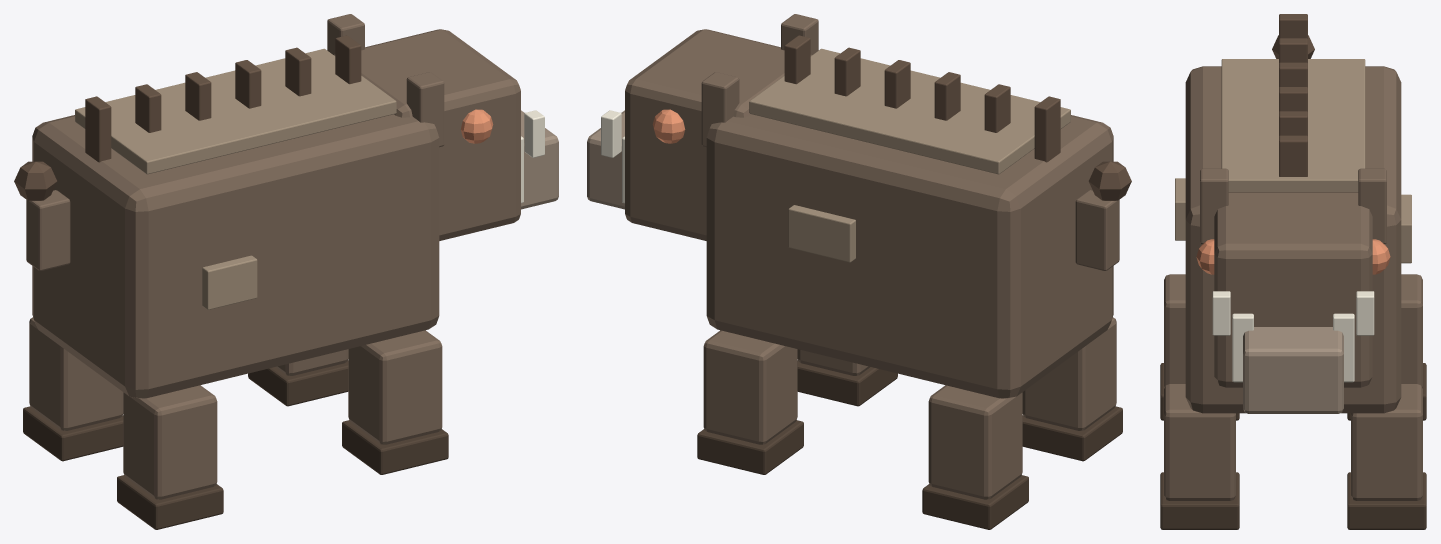
Rendered from burrow_boar_v2.glb.
3 renders of one model, left to right at view 1: azimuth 30°, elevation 25°; view 2: azimuth 150°, elevation 25°; view 3: azimuth 270°, elevation 25°, orthographic.
Visible parts, largest first — view 1: Body_Mesh, Head_Mesh, Dirt_Top, LegBL_Shaft, LegFL_Shaft, LegBR_Shaft, LegBL_Hoof, LegFL_Hoof, Tail_Base, LegBR_Hoof, LegFR_Hoof, Dirt_L (+13 smaller); view 2: Body_Mesh, Head_Mesh, Dirt_Top, LegBR_Shaft, LegFR_Shaft, LegBL_Shaft, LegBR_Hoof, LegFR_Hoof, Tail_Base, LegBL_Hoof, Dirt_R, LegFL_Hoof (+13 smaller); view 3: Head_Mesh, Body_Mesh, Dirt_Top, Snout, LegFL_Shaft, LegFR_Shaft, LegFL_Hoof, LegFR_Hoof, LegBL_Shaft, LegBR_Shaft, Ear_L, Ear_R (+14 smaller).
Boxes of the visible parts, x1,y1,x2,y2 form: Body_Mesh: [32, 114, 439, 398]; Head_Mesh: [334, 29, 520, 240]; Dirt_Top: [75, 48, 396, 174]; LegBL_Shaft: [123, 385, 217, 499]; LegFL_Shaft: [348, 330, 442, 444]; LegBR_Shaft: [29, 317, 123, 430]; LegBL_Hoof: [117, 475, 223, 529]; LegFL_Hoof: [342, 420, 448, 474]; Tail_Base: [26, 190, 70, 270]; LegBR_Hoof: [23, 406, 123, 461]; LegFR_Hoof: [248, 360, 348, 406]; Dirt_L: [202, 255, 257, 309]; Body_Mesh: [706, 114, 1113, 398]; Head_Mesh: [625, 29, 811, 240]; Dirt_Top: [749, 48, 1070, 174]; LegBR_Shaft: [928, 385, 1022, 499]; LegFR_Shaft: [703, 330, 797, 444]; LegBL_Shaft: [1022, 317, 1116, 430]; LegBR_Hoof: [922, 475, 1028, 529]; LegFR_Hoof: [697, 420, 803, 474]; Tail_Base: [1075, 190, 1119, 270]; LegBL_Hoof: [1022, 406, 1122, 461]; Dirt_R: [788, 205, 855, 262]; LegFL_Hoof: [797, 360, 897, 406]; Head_Mesh: [1214, 192, 1372, 387]; Body_Mesh: [1185, 66, 1401, 413]; Dirt_Top: [1221, 59, 1365, 192]; Snout: [1243, 327, 1343, 413]; LegFL_Shaft: [1164, 384, 1235, 500]; LegFR_Shaft: [1351, 384, 1422, 500]; LegFL_Hoof: [1160, 472, 1239, 529]; LegFR_Hoof: [1347, 472, 1426, 529]; LegBL_Shaft: [1164, 274, 1185, 387]; LegBR_Shaft: [1401, 274, 1422, 387]; Ear_L: [1200, 168, 1228, 244]; Ear_R: [1358, 168, 1386, 244].
Bounding box in the file's own units: 1.07 × 0.75 × 0.481.
